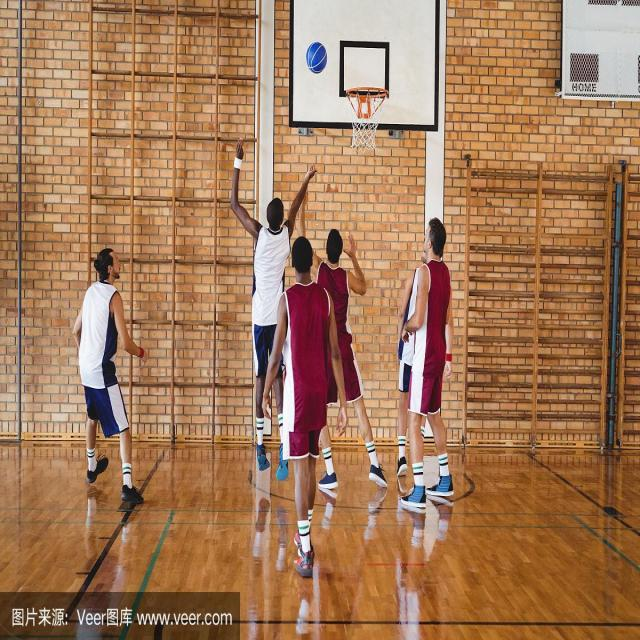rim: (306, 41, 328, 72)
